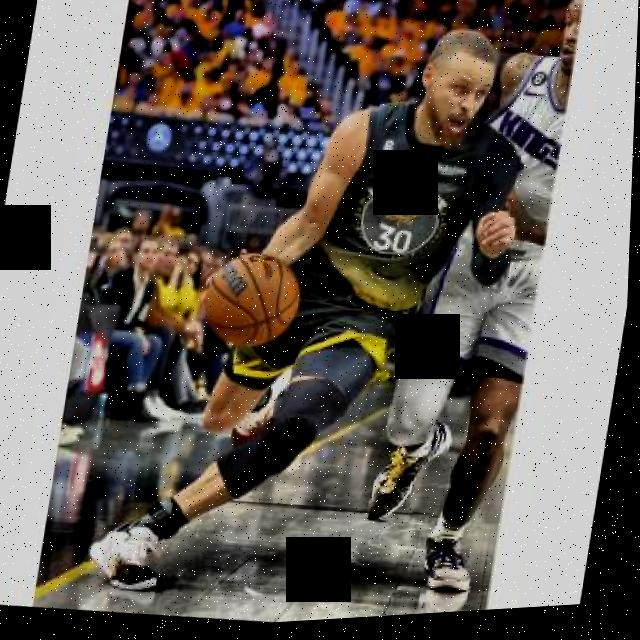shoe: (371, 420, 457, 533), (83, 514, 170, 599), (422, 528, 483, 601)
